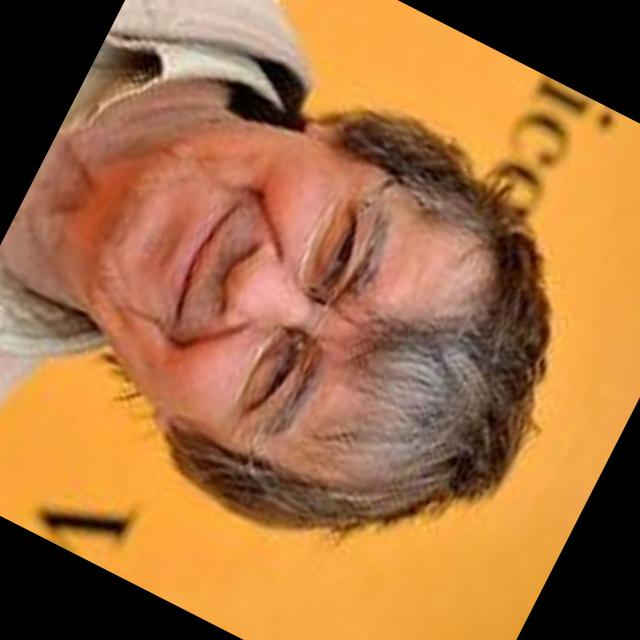bareface: (33, 45, 597, 553)
